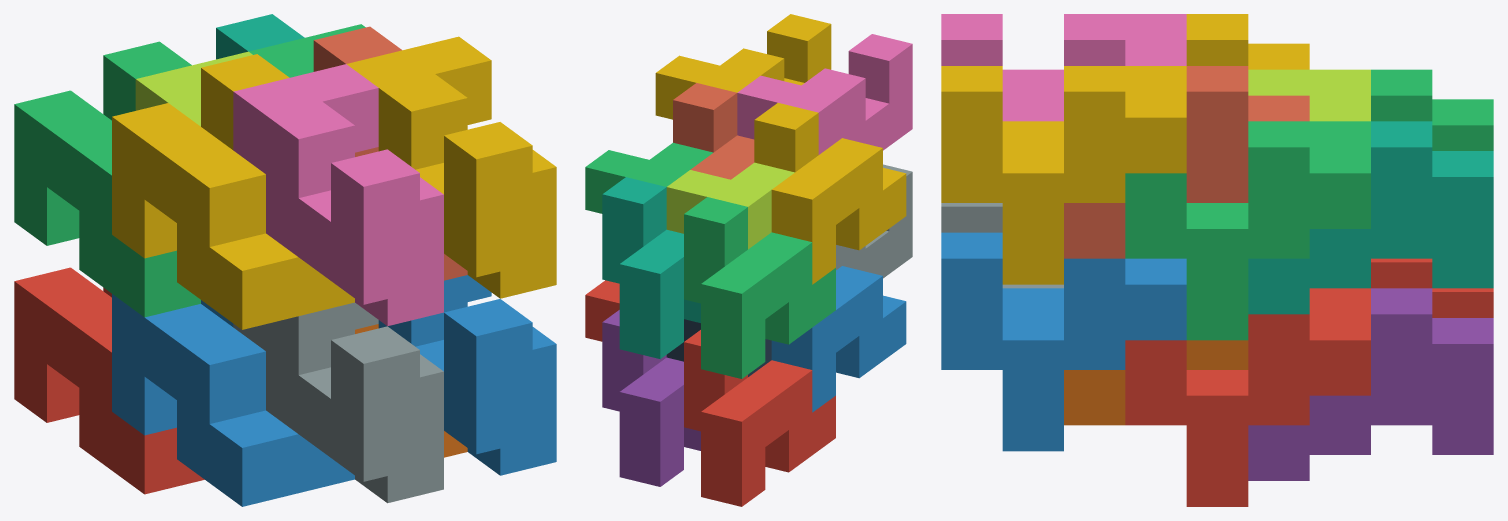
The model's file is tiling.obj.
3 renders of one model, left to right at view 1: azimuth 30°, elevation 25°; view 2: azimuth 150°, elevation 25°; view 3: azimuth 270°, elevation 25°, orthographic. The views are drawn at different scales.
Visible parts, largest first — view 1: copy_2_domain_4, copy_1_domain_4, copy_2_domain_8, copy_1_domain_2, copy_2_domain_2, copy_1_domain_3, copy_2_domain_6, copy_1_domain_1, copy_2_domain_3, copy_1_domain_8, copy_1_domain_7, copy_2_domain_7; view 2: copy_1_domain_3, copy_1_domain_1, copy_1_domain_4, copy_1_domain_7, copy_2_domain_4, copy_1_domain_5, copy_1_domain_2, copy_2_domain_8, copy_1_domain_8, copy_2_domain_3, copy_2_domain_7, copy_2_domain_2 (+2 smaller); view 3: copy_2_domain_8, copy_2_domain_6, copy_2_domain_7, copy_2_domain_5, copy_1_domain_7, copy_1_domain_5, copy_1_domain_8, copy_2_domain_4, copy_1_domain_3, copy_1_domain_6, copy_2_domain_3, copy_1_domain_4 (+2 smaller).
Boxes of the visible parts, <box> form: copy_2_domain_4: <box>233,64,443,326</box>; copy_1_domain_4: <box>112,54,354,329</box>; copy_2_domain_8: <box>346,36,556,298</box>; copy_1_domain_2: <box>112,294,354,506</box>; copy_2_domain_2: <box>233,302,443,503</box>; copy_1_domain_3: <box>14,41,200,317</box>; copy_2_domain_6: <box>378,275,556,475</box>; copy_1_domain_1: <box>14,267,204,494</box>; copy_2_domain_3: <box>135,51,252,126</box>; copy_1_domain_8: <box>313,26,467,280</box>; copy_1_domain_7: <box>216,14,304,59</box>; copy_2_domain_7: <box>249,24,365,77</box>; copy_1_domain_3: <box>684,197,835,378</box>; copy_1_domain_1: <box>684,330,835,506</box>; copy_1_domain_4: <box>754,103,906,284</box>; copy_1_domain_7: <box>602,177,700,359</box>; copy_2_domain_4: <box>737,34,912,154</box>; copy_1_domain_5: <box>602,310,700,486</box>; copy_1_domain_2: <box>771,266,906,412</box>; copy_2_domain_8: <box>655,14,831,119</box>; copy_1_domain_8: <box>673,83,754,179</box>; copy_2_domain_3: <box>666,162,794,249</box>; copy_2_domain_7: <box>585,142,713,213</box>; copy_2_domain_2: <box>836,164,912,278</box>; copy_2_domain_8: <box>941,66,1186,284</box>; copy_2_domain_6: <box>941,232,1186,451</box>; copy_2_domain_7: <box>1125,121,1370,340</box>; copy_2_domain_5: <box>1125,288,1370,506</box>; copy_1_domain_7: <box>1248,121,1493,314</box>; copy_1_domain_5: <box>1248,288,1493,480</box>; copy_1_domain_8: <box>1064,66,1309,258</box>; copy_2_domain_4: <box>941,14,1186,121</box>; copy_1_domain_3: <box>1371,69,1493,150</box>; copy_1_domain_6: <box>1064,340,1248,425</box>; copy_2_domain_3: <box>1248,69,1370,121</box>; copy_1_domain_4: <box>1186,14,1309,69</box>.
Size of the model in its own units: 5 by 7 by 9.
